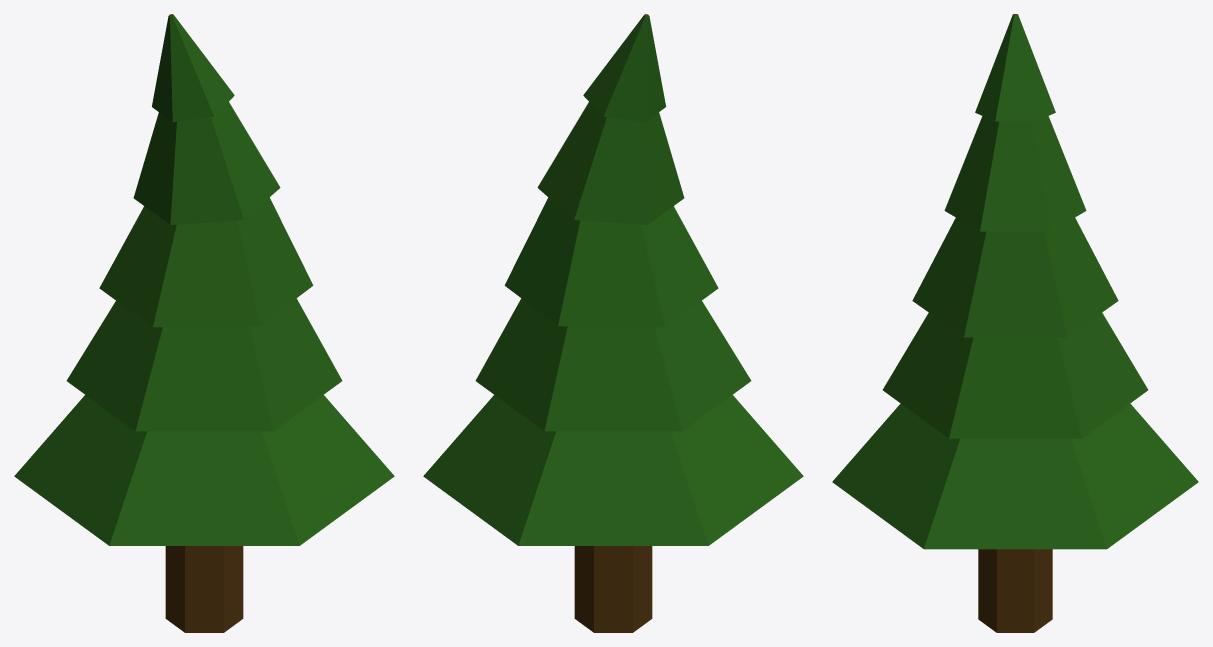
Rendered from Pino3.fbx.
3 renders of one model, left to right at view 1: azimuth 30°, elevation 25°; view 2: azimuth 150°, elevation 25°; view 3: azimuth 270°, elevation 25°, orthographic. The views are drawn at different scales.
Parts seen in each view (by area): view 1: Cylinder.000; view 2: Cylinder.000; view 3: Cylinder.000.
Boxes of the visible parts, x1=… form: Cylinder.000: x1=14, y1=14, x2=394, y2=632; Cylinder.000: x1=423, y1=14, x2=803, y2=632; Cylinder.000: x1=832, y1=14, x2=1198, y2=632.
Bounding box in the file's own units: 426 × 873 × 492.
